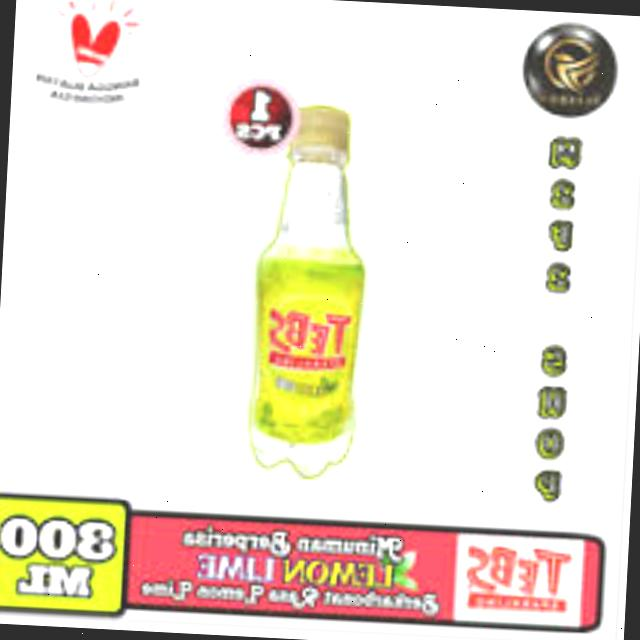trash: (234, 98, 384, 491)
